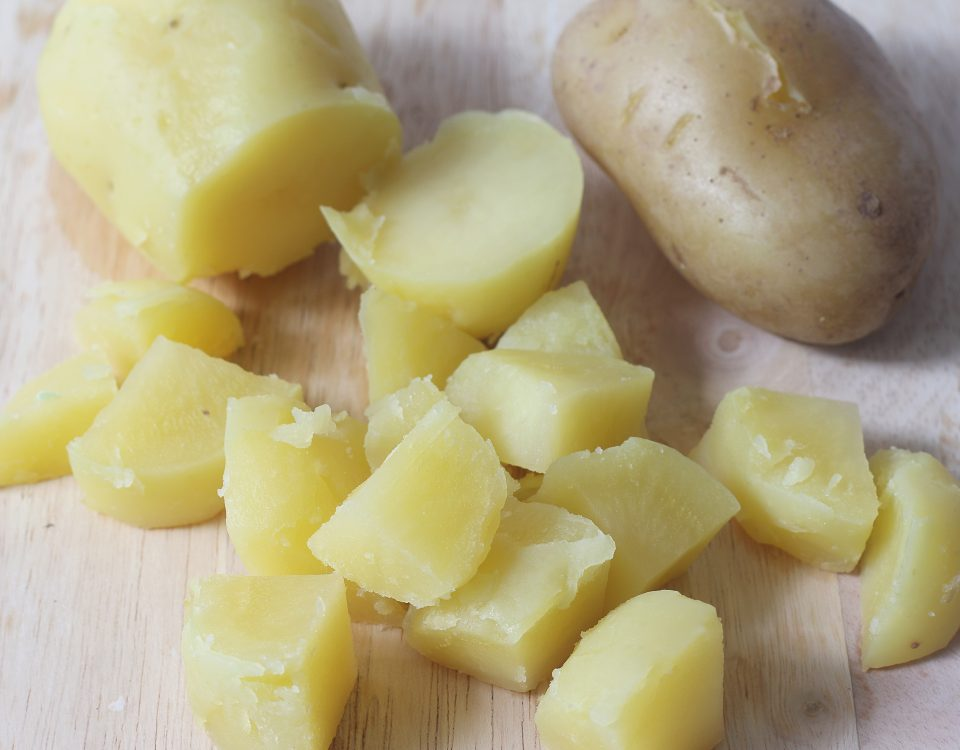boiled potatoes: (345, 167, 718, 726)
